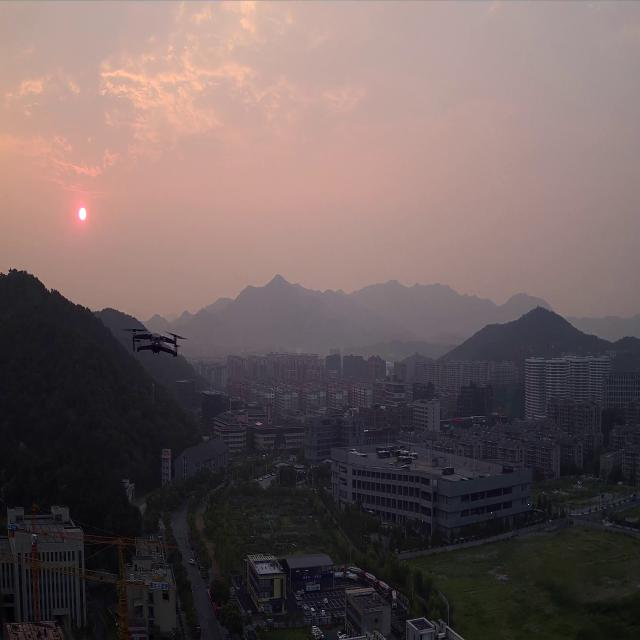UAV: (121, 325, 189, 357)
